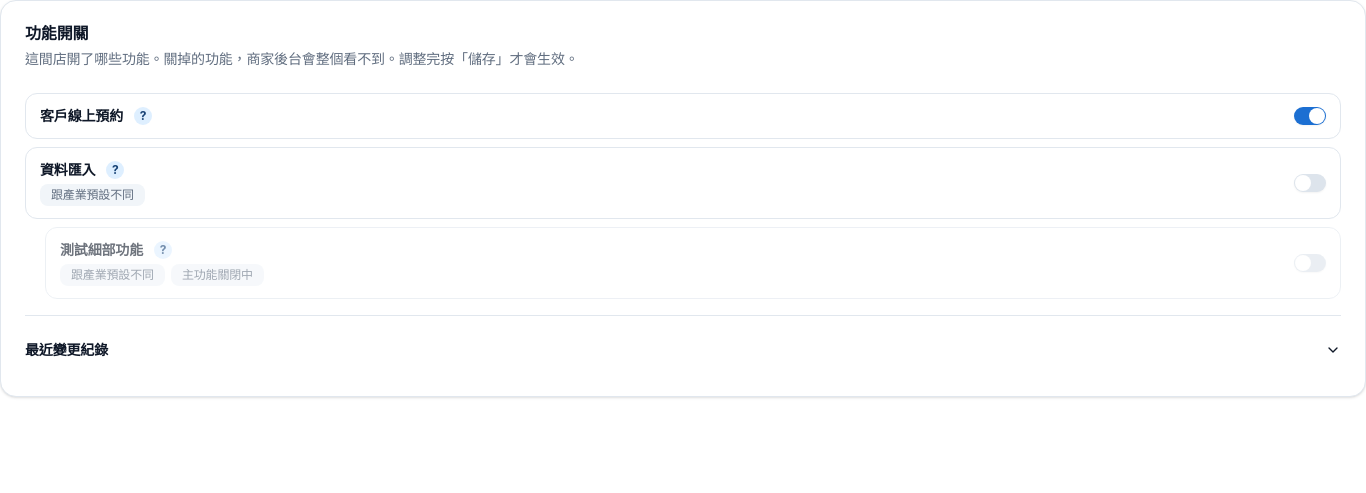
Test: 商家詳情「功能開關」卡(MerchantFeatureGrantsCard,FG1-U03 / U05 + 第三輪) › 切開關不會馬上存;主功能打開 ⇒ 細部功能預設跟著打開、可以再個別關;放棄變更 ⇒ 回原值
Step 1. Click the switch with test id "merchant-feature-switch-data_import" → (1310, 183), box 1294,174 -> 1326,192
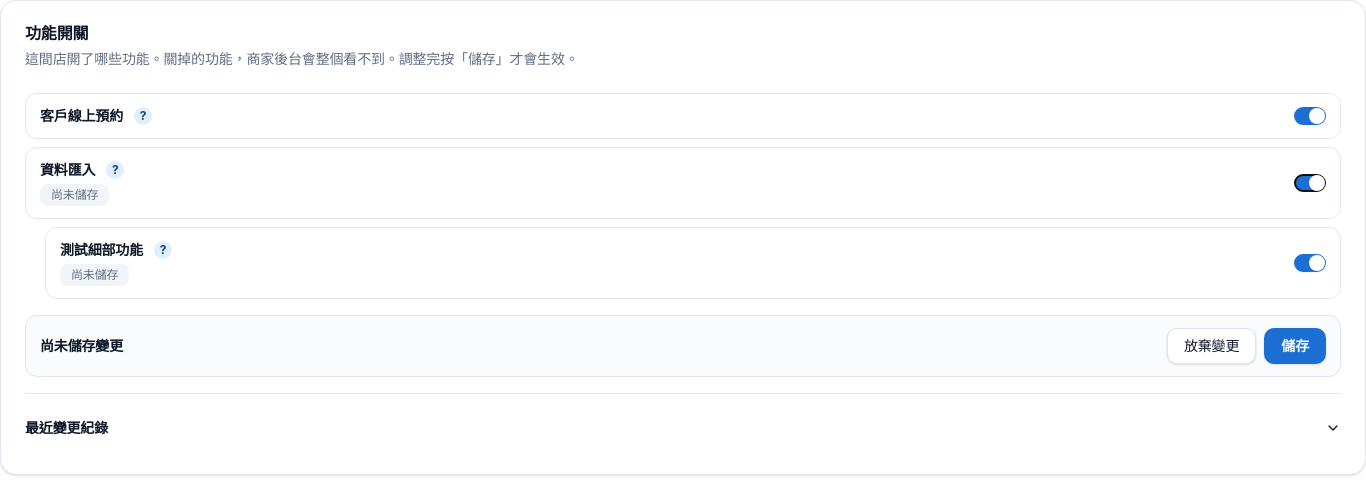
Expected: the switch with test id "merchant-feature-switch-data_import_child" is enabled
Step 2. Click the switch with test id "merchant-feature-switch-data_import_child" → (1310, 263), box 1294,254 -> 1326,272
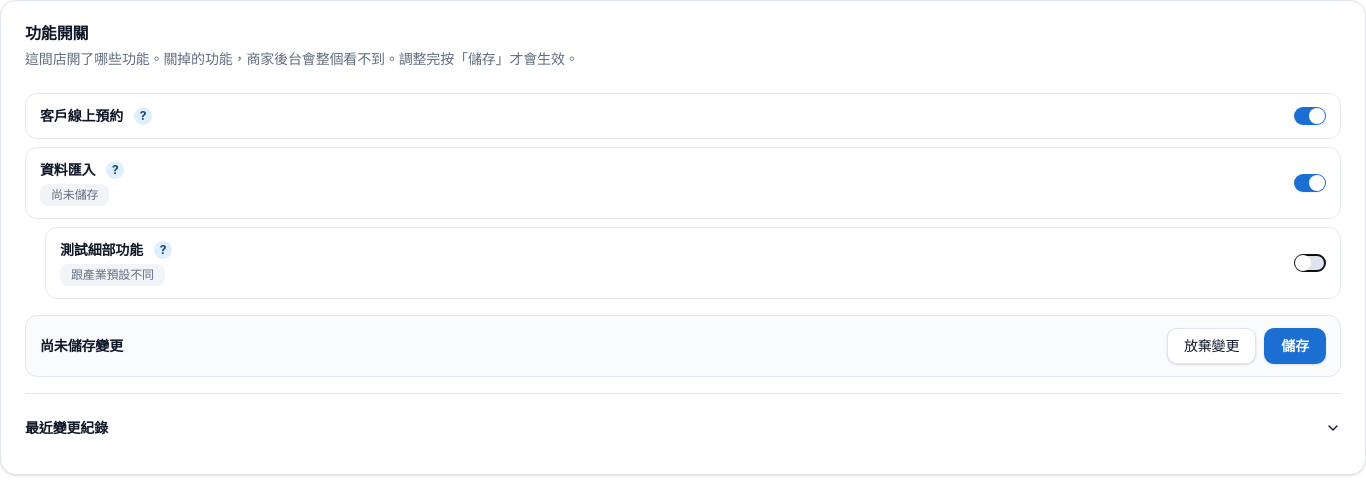
Expected: the element with test id "merchant-feature-unsaved" shows "尚未儲存變更", 40,337 -> 123,354
Step 3. Click the button "放棄變更" → (1212, 346), box 1167,328 -> 1256,364
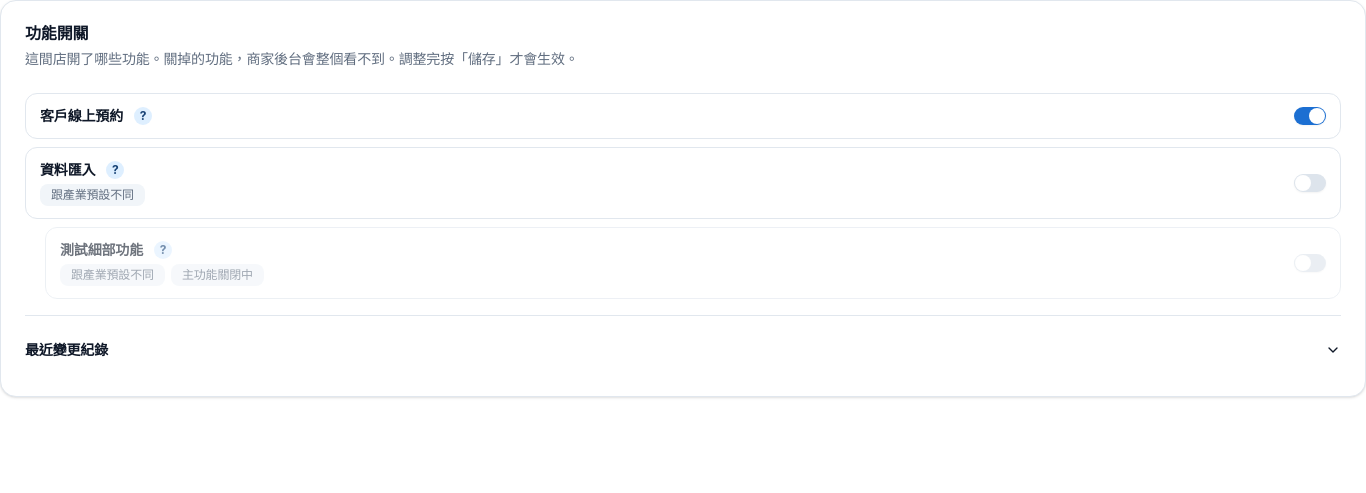
Expected: the element with test id "merchant-feature-unsaved" is gone
